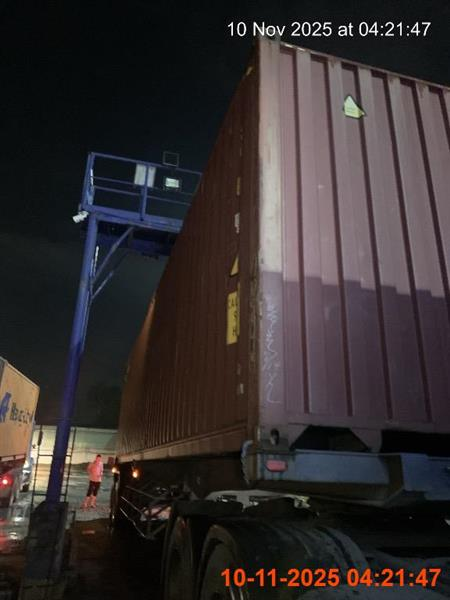hole: (108, 36, 449, 548), (0, 356, 40, 503), (82, 453, 103, 509), (0, 461, 16, 508)
